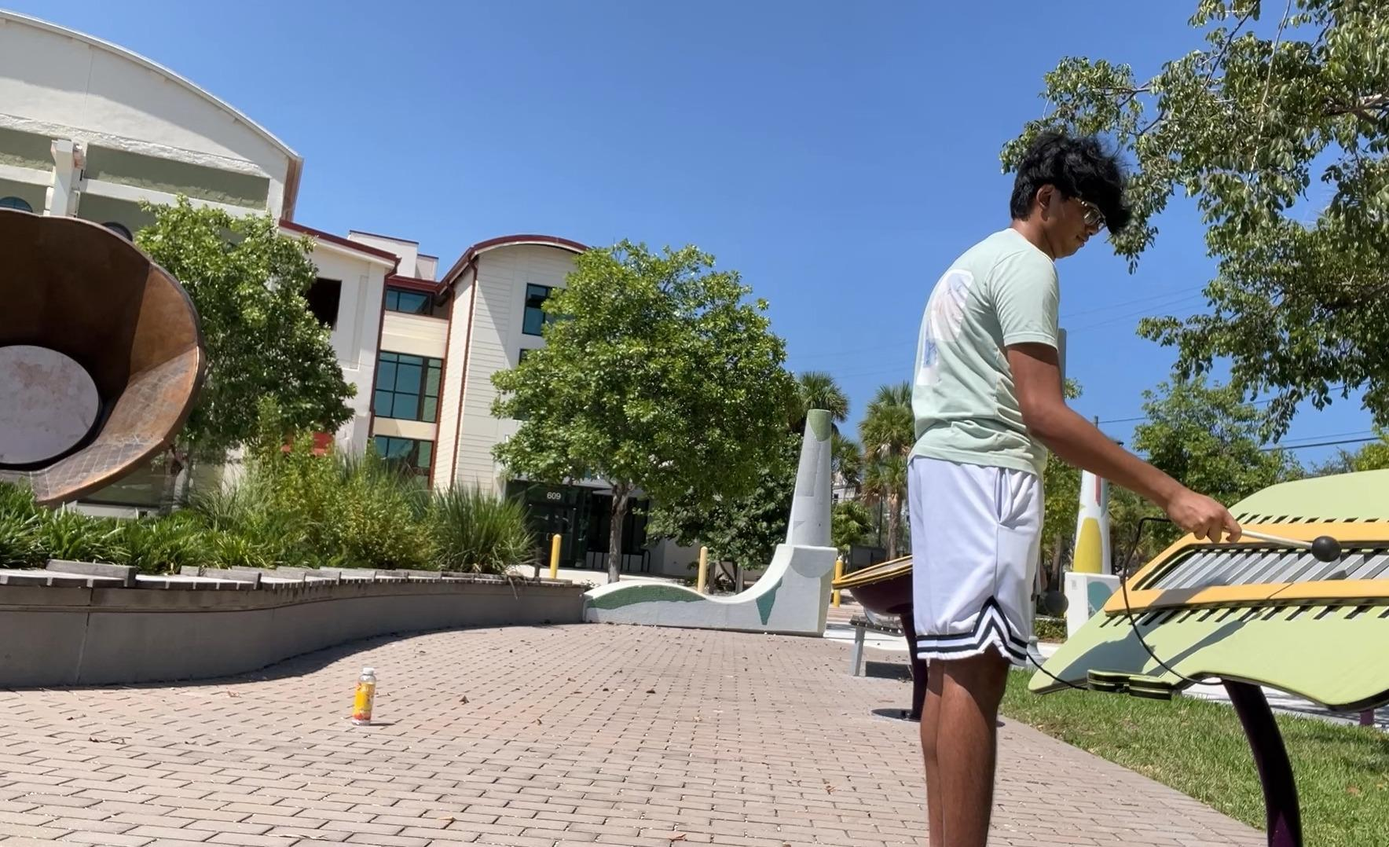Trash: (346, 659, 393, 732)
